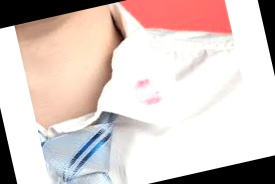lipstick: (130, 74, 173, 114)
